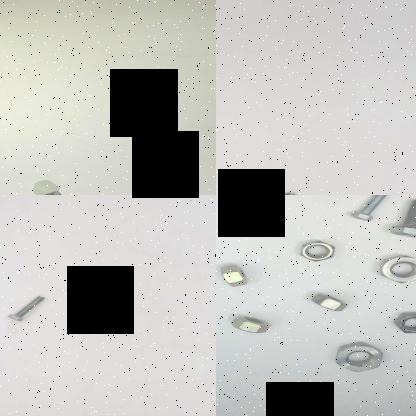Bolts: (344, 195, 398, 223), (2, 293, 48, 323), (391, 195, 416, 240), (32, 184, 76, 195), (254, 187, 300, 195)
NUTS: (321, 335, 391, 378), (369, 249, 416, 287), (292, 236, 348, 266), (216, 258, 264, 290), (223, 310, 271, 337), (304, 288, 352, 314), (387, 309, 416, 336)
